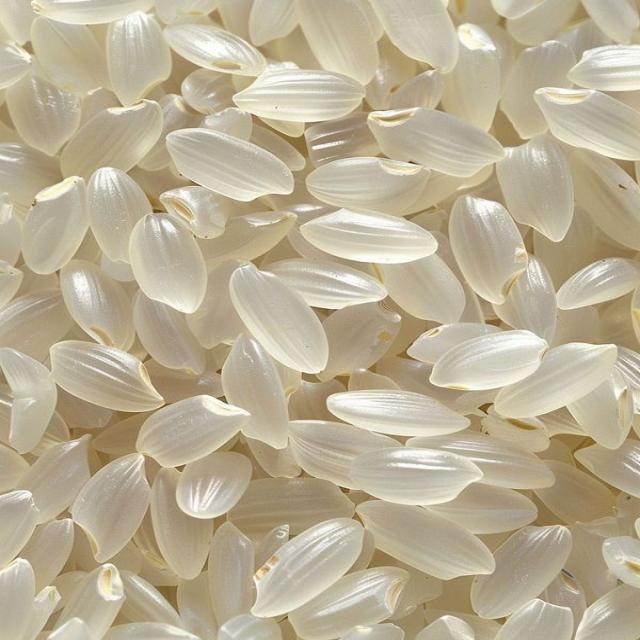rice: (0, 0, 639, 639), (471, 526, 570, 618), (71, 454, 150, 562), (407, 431, 553, 488), (496, 134, 573, 242), (221, 333, 289, 448), (349, 448, 482, 506), (300, 209, 437, 263), (150, 468, 213, 579), (6, 70, 81, 155), (106, 12, 171, 105), (21, 436, 90, 523), (176, 452, 252, 518), (496, 599, 573, 639)
